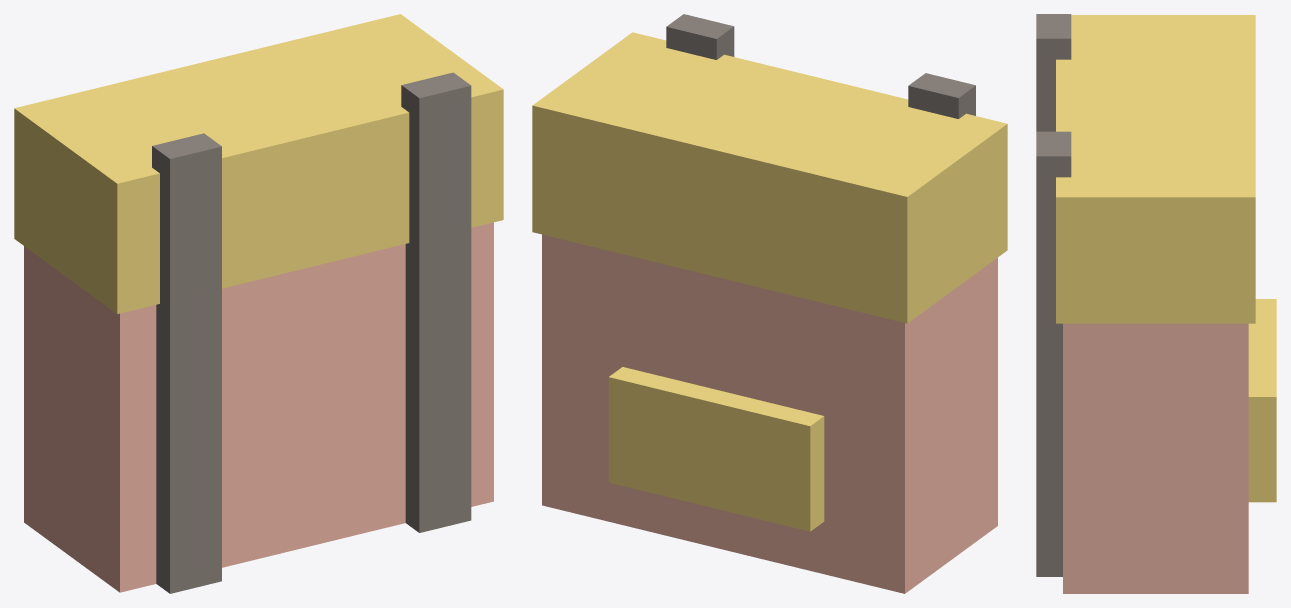
The model's file is outfit_backpack.glb.
The picture shows the model from 3 angles, left to right: view 1: azimuth 30°, elevation 25°; view 2: azimuth 150°, elevation 25°; view 3: azimuth 270°, elevation 25°; orthographic projection. The views are drawn at different scales.
Visible parts, largest first — view 1: outfit_backpack; view 2: outfit_backpack; view 3: outfit_backpack.
Part boxes in pixels (x1=…): outfit_backpack: x1=14, y1=14, x2=503, y2=593; outfit_backpack: x1=532, y1=14, x2=1007, y2=593; outfit_backpack: x1=1036, y1=14, x2=1276, y2=593.
Size of the model in its own units: 18.6 by 20 by 10.35.
